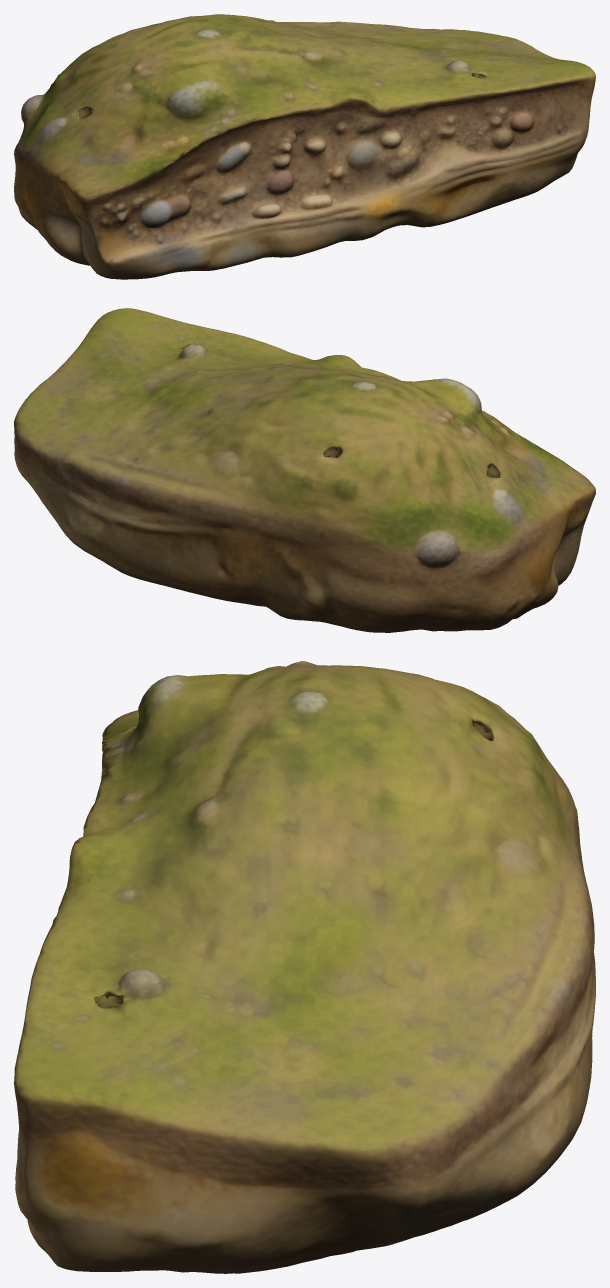
The picture shows the model from 3 angles, top to bottom: view 1: azimuth 30°, elevation 25°; view 2: azimuth 150°, elevation 25°; view 3: azimuth 270°, elevation 25°; orthographic projection. The views are drawn at different scales.
Visible parts, largest first — view 1: world; view 2: world; view 3: world.
Part boxes in pixels (left/top/right/bottom): world: left=14, top=14, right=595, bottom=279; world: left=14, top=308, right=595, bottom=632; world: left=14, top=661, right=595, bottom=1273.
Bounding box in the file's own units: 30 × 11.57 × 16.63.
1 material, 1 textured.
